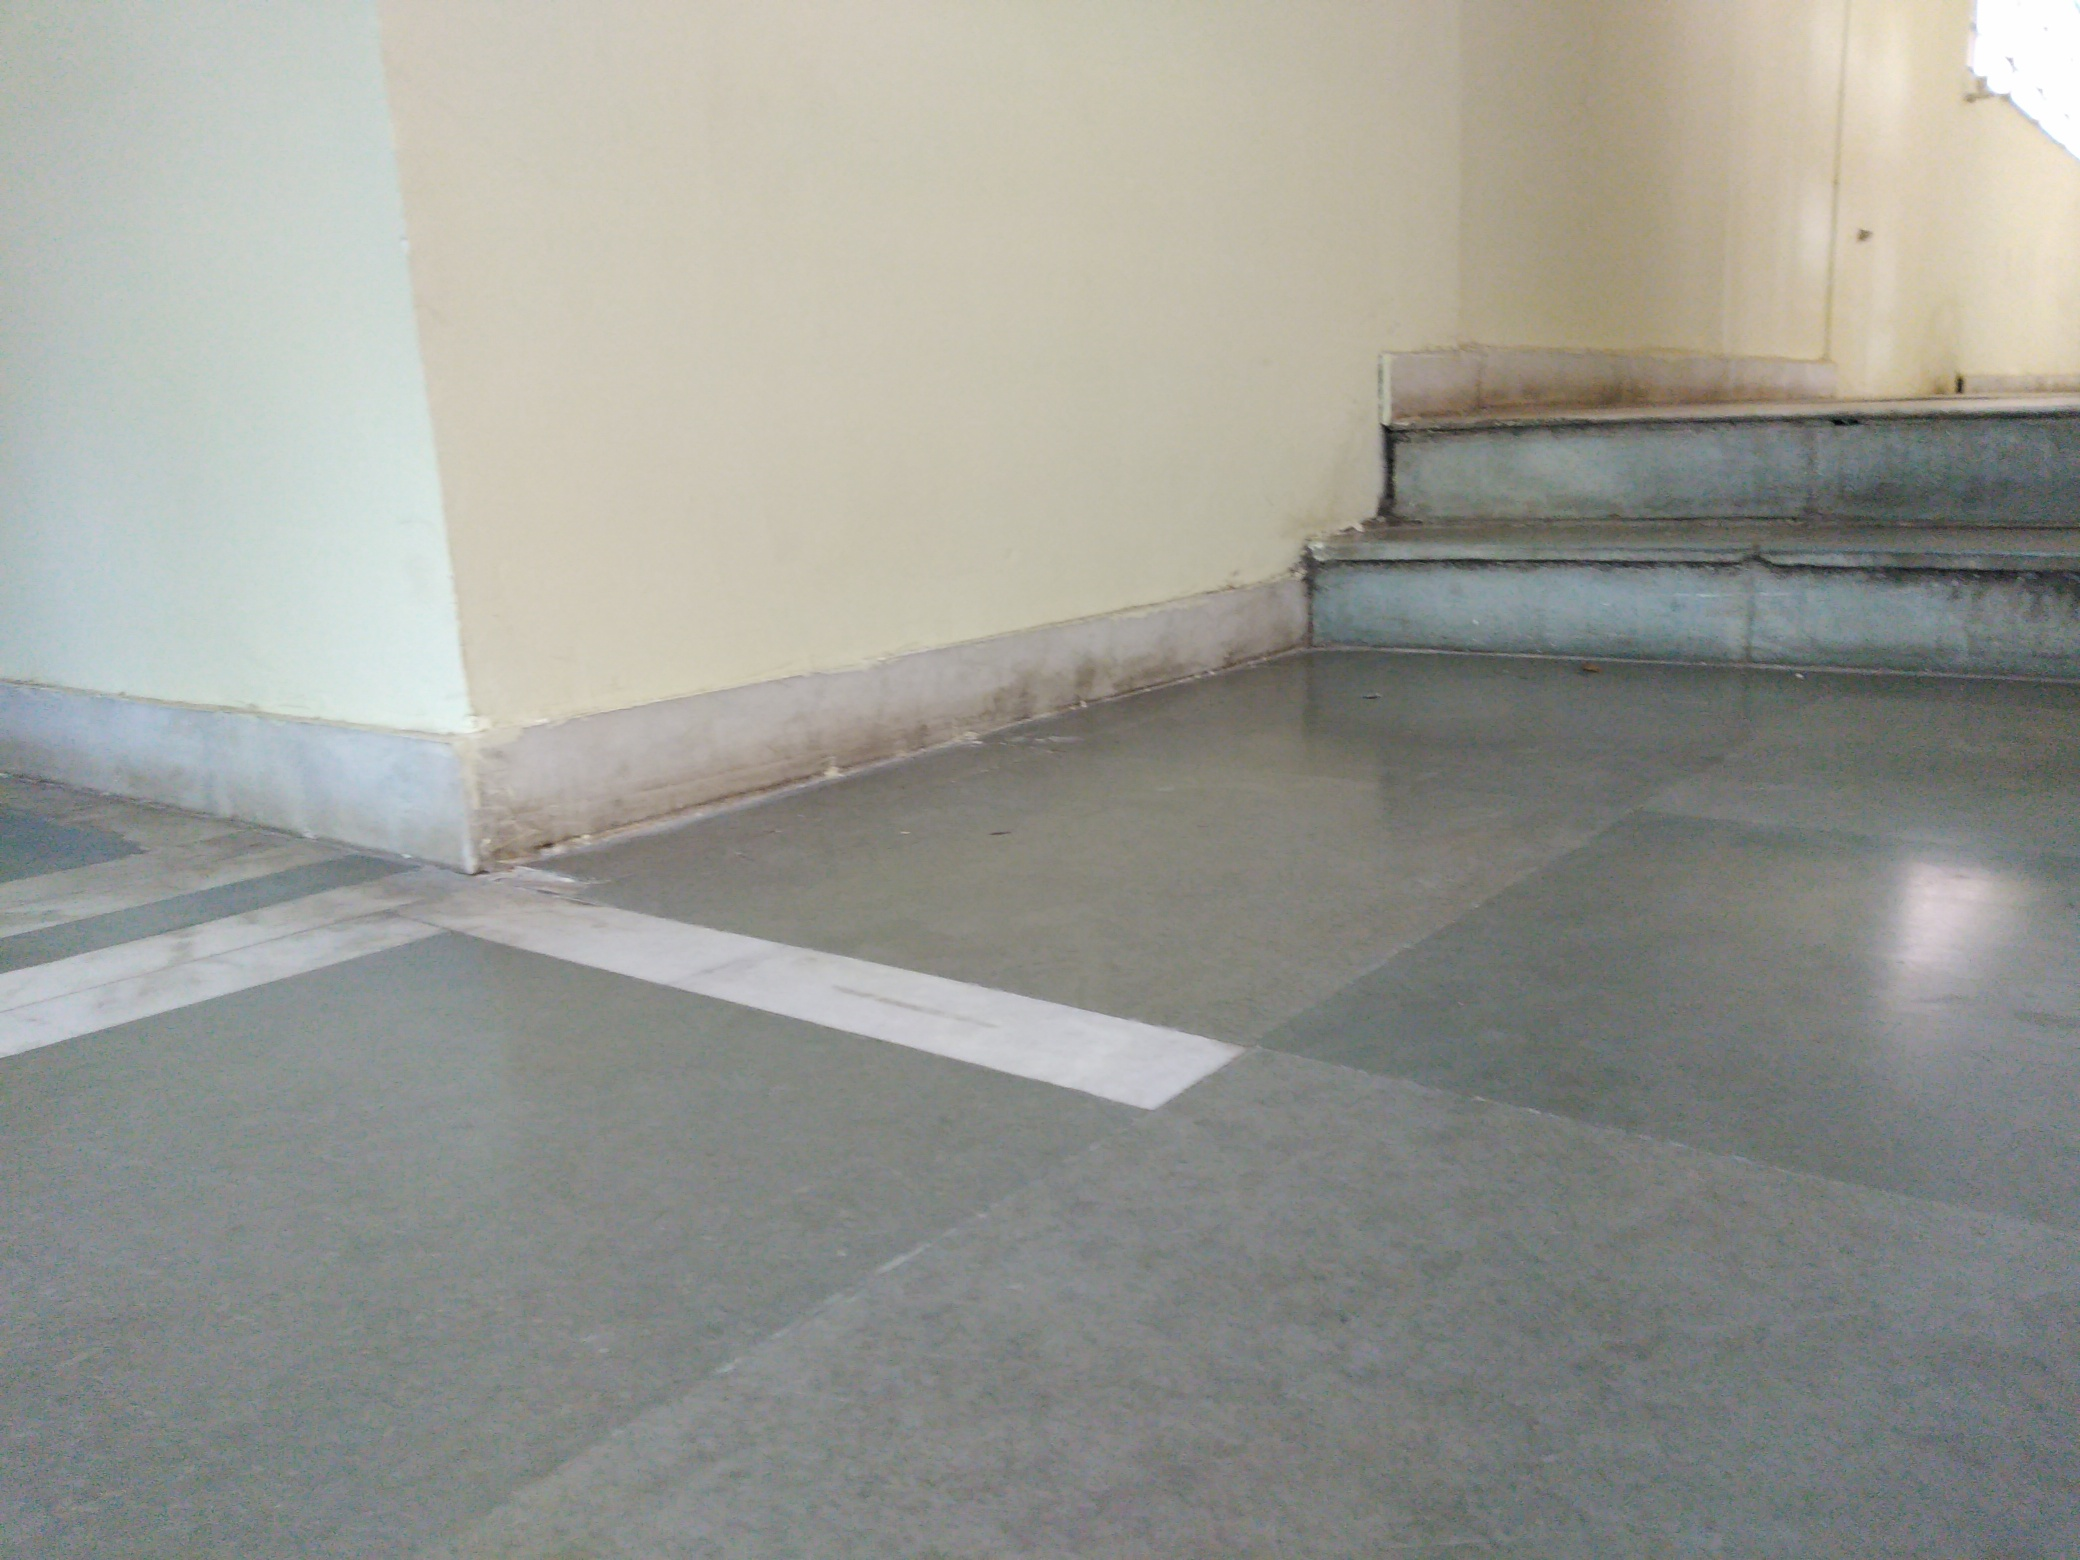stairs_up: (1292, 400, 2080, 711)
